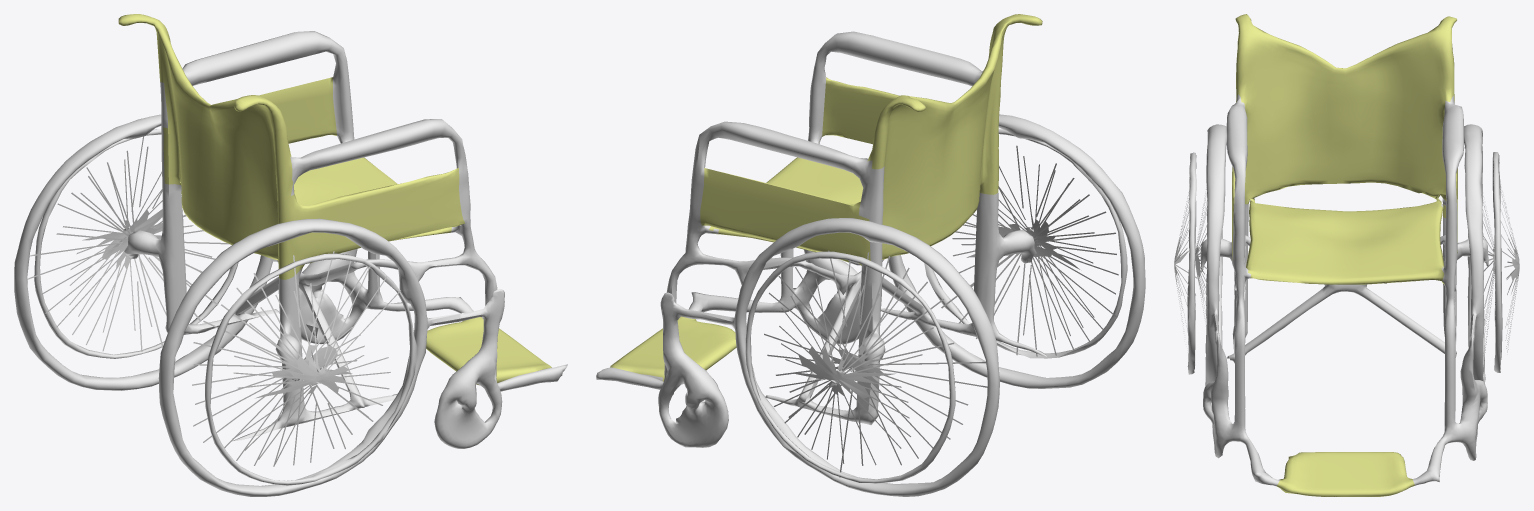
File: AbandonedChair.fbx
3 views of the same model, side by side, from view 1: azimuth 30°, elevation 25°; view 2: azimuth 150°, elevation 25°; view 3: azimuth 270°, elevation 25° (orthographic). The views are drawn at different scales.
Visible parts, largest first — view 1: Retopo_chair_bady.002; view 2: Retopo_chair_bady.002; view 3: Retopo_chair_bady.002.
Boxes of the visible parts, x1=… form: Retopo_chair_bady.002: x1=14, y1=14, x2=567, y2=496; Retopo_chair_bady.002: x1=596, y1=14, x2=1145, y2=496; Retopo_chair_bady.002: x1=1174, y1=14, x2=1519, y2=496.
Size of the model in its own units: 118 by 101 by 90.54.
